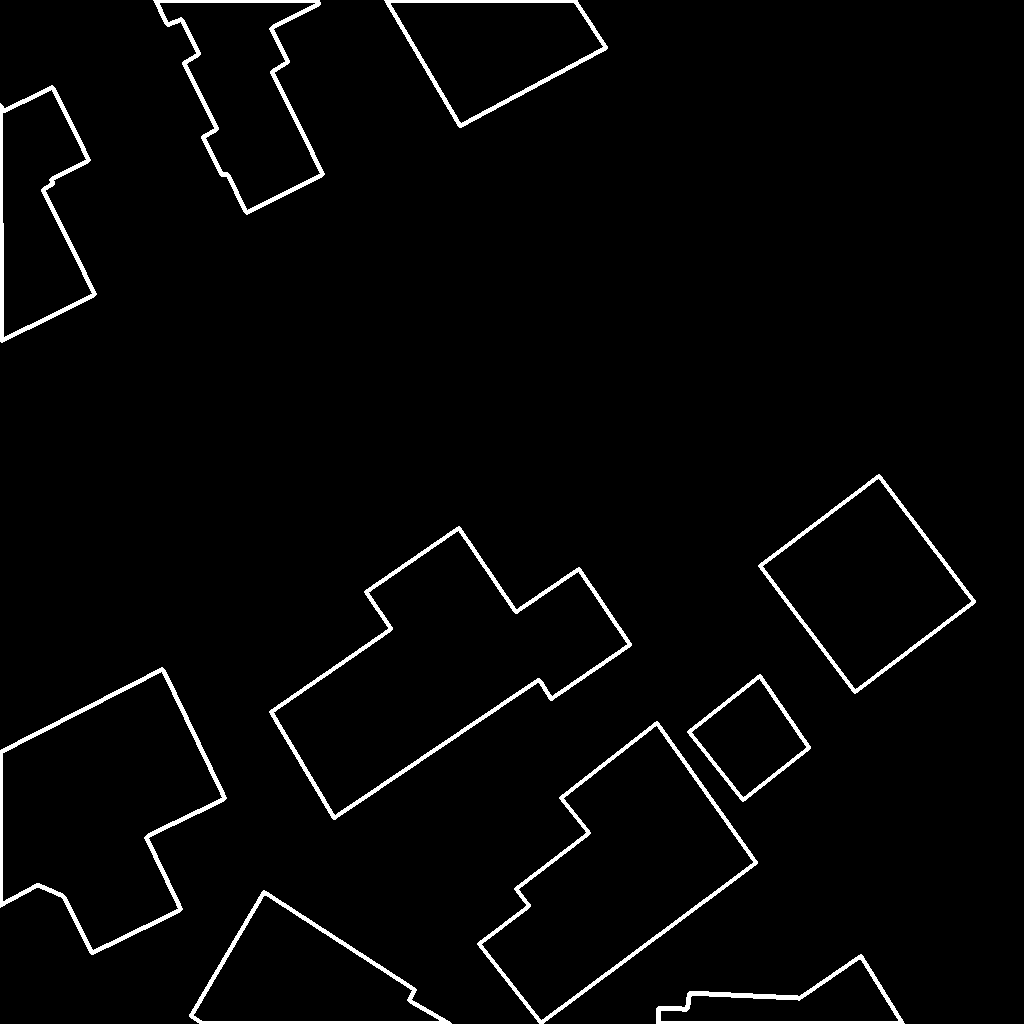building: (271, 528, 631, 819), (479, 723, 757, 1024), (0, 669, 226, 954), (760, 476, 975, 693), (155, 0, 324, 214), (191, 892, 451, 1024), (386, 0, 607, 127), (0, 87, 96, 342), (658, 956, 904, 1024), (689, 676, 810, 801)
